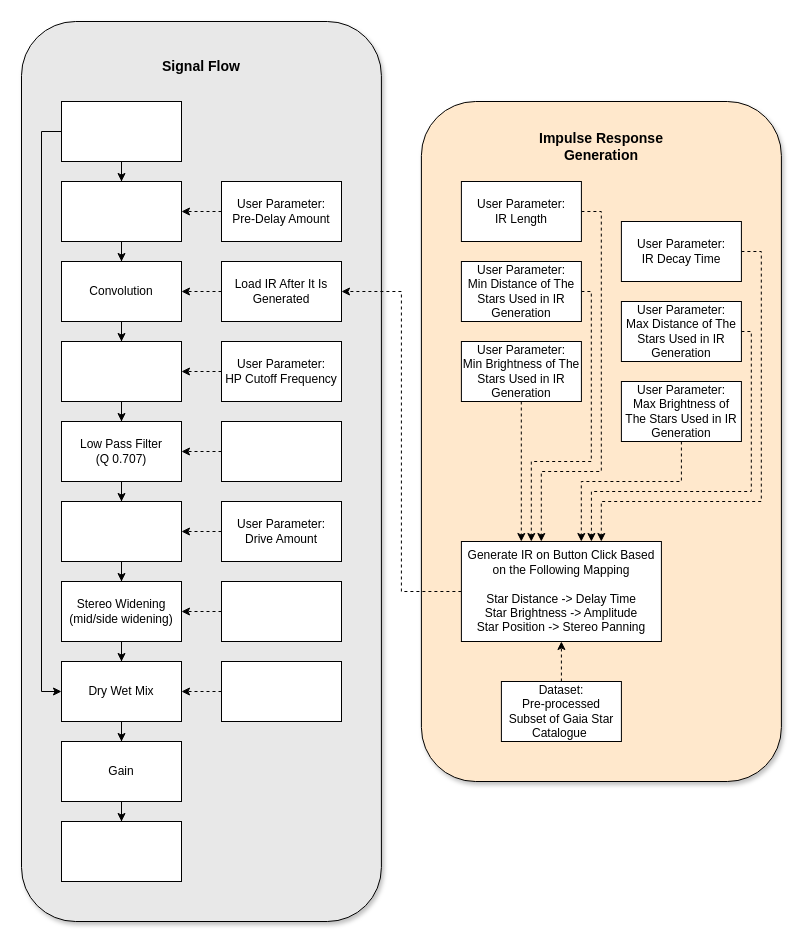
Image size: 805x946. Some labels were removed from this diagram. The shapes that lost their labels are listed below. From the top down, each one's centre as x and y in pixels, then its label:
the point at 121,131: Input Signal
the point at 121,211: Pre-Delay
the point at 121,371: High Pass Filter (Q 0.707)
the point at 281,451: User Parameter: LP Cutoff Frequency
the point at 121,531: Saturation (tanh)
the point at 281,611: User Parameter: Width Amount
the point at 281,691: User Parameter: Dry/Wet Amount
the point at 121,851: Output Signal
